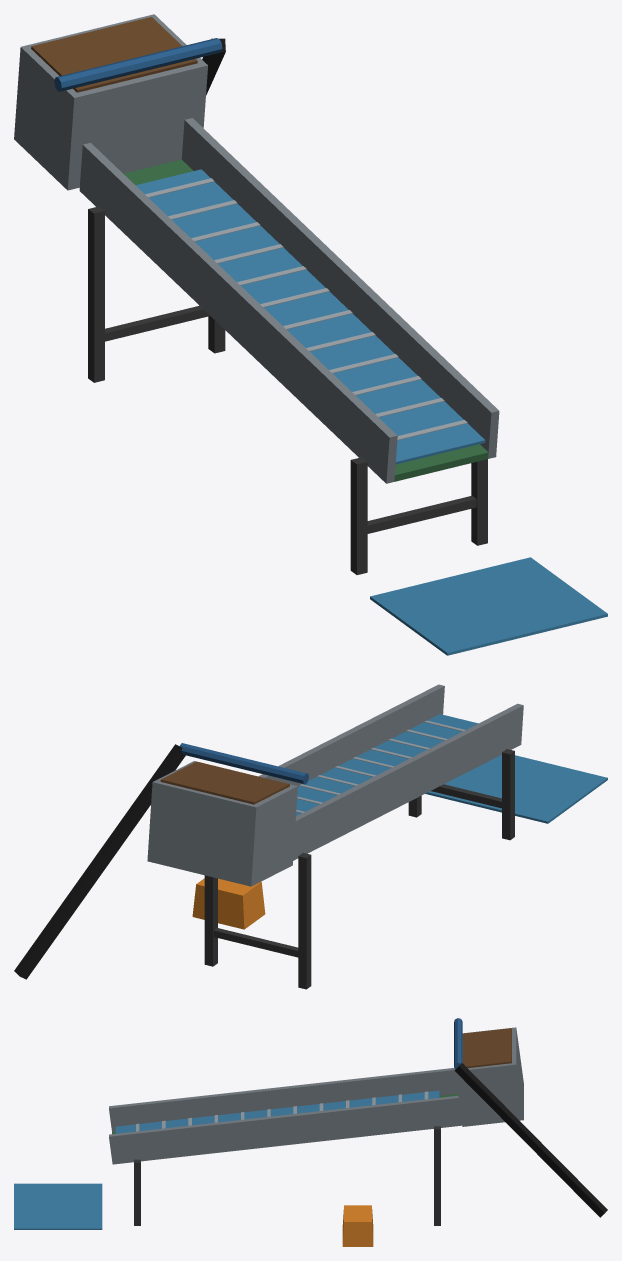
The model's file is Mining_SluiceBox.fbx.
3 views of the same model, one above another, from view 1: azimuth 30°, elevation 25°; view 2: azimuth 150°, elevation 25°; view 3: azimuth 270°, elevation 25° (orthographic). The views are drawn at different scales.
Parts seen in each view (by area): view 1: Mining_SluiceBox; view 2: Mining_SluiceBox; view 3: Mining_SluiceBox.
Part boxes in pixels (left/top/right/bottom): Mining_SluiceBox: left=14, top=14, right=607, bottom=655; Mining_SluiceBox: left=14, top=684, right=607, bottom=989; Mining_SluiceBox: left=14, top=1018, right=607, bottom=1246.
Size of the model in its own units: 1.85 by 2.09 by 6.73.
